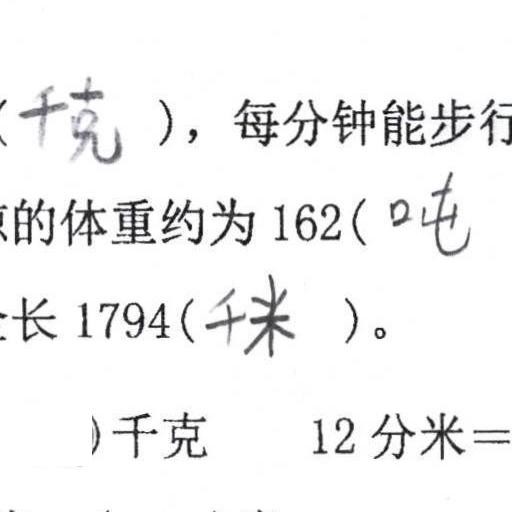ans: (13, 71, 123, 166), (202, 271, 296, 359), (386, 168, 475, 257)
